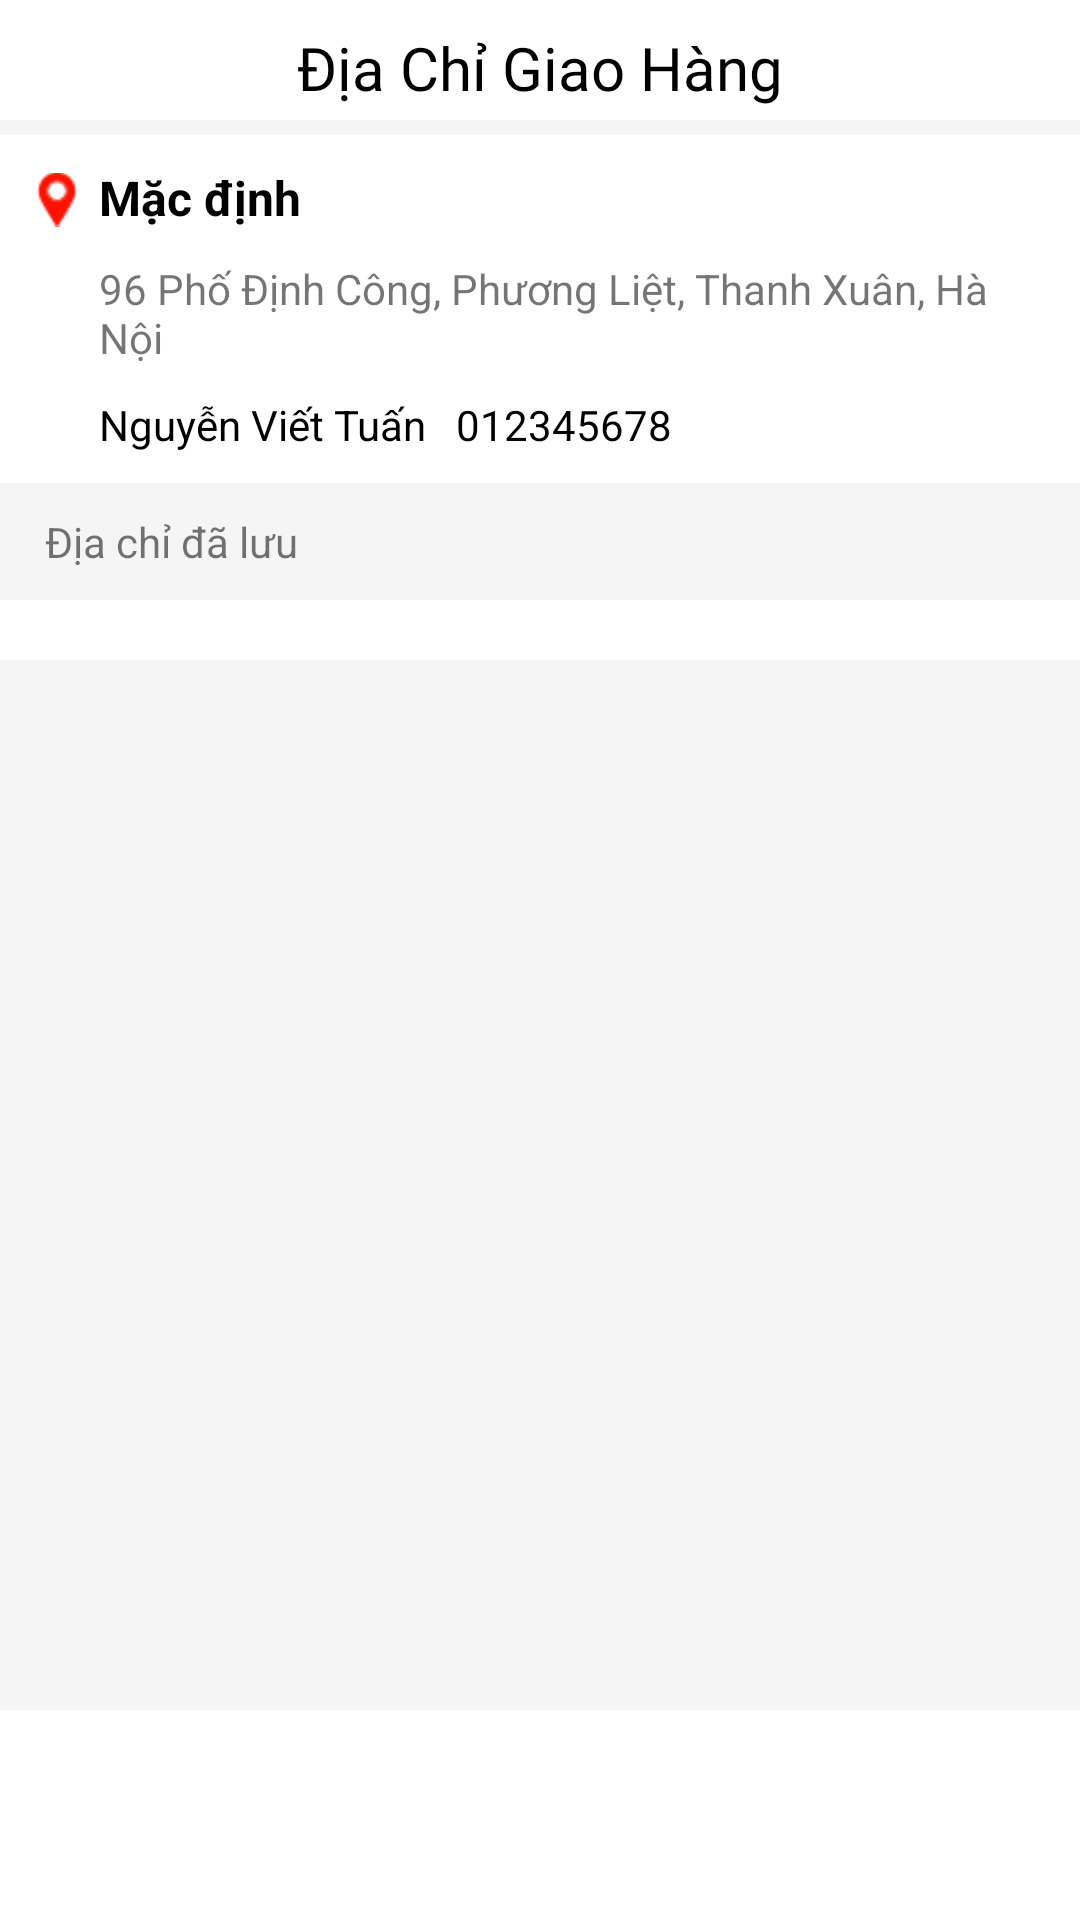

Screen size 1080 x 1920. Icon name, then its center in pixels as [x,y]:
location: [57,200]
